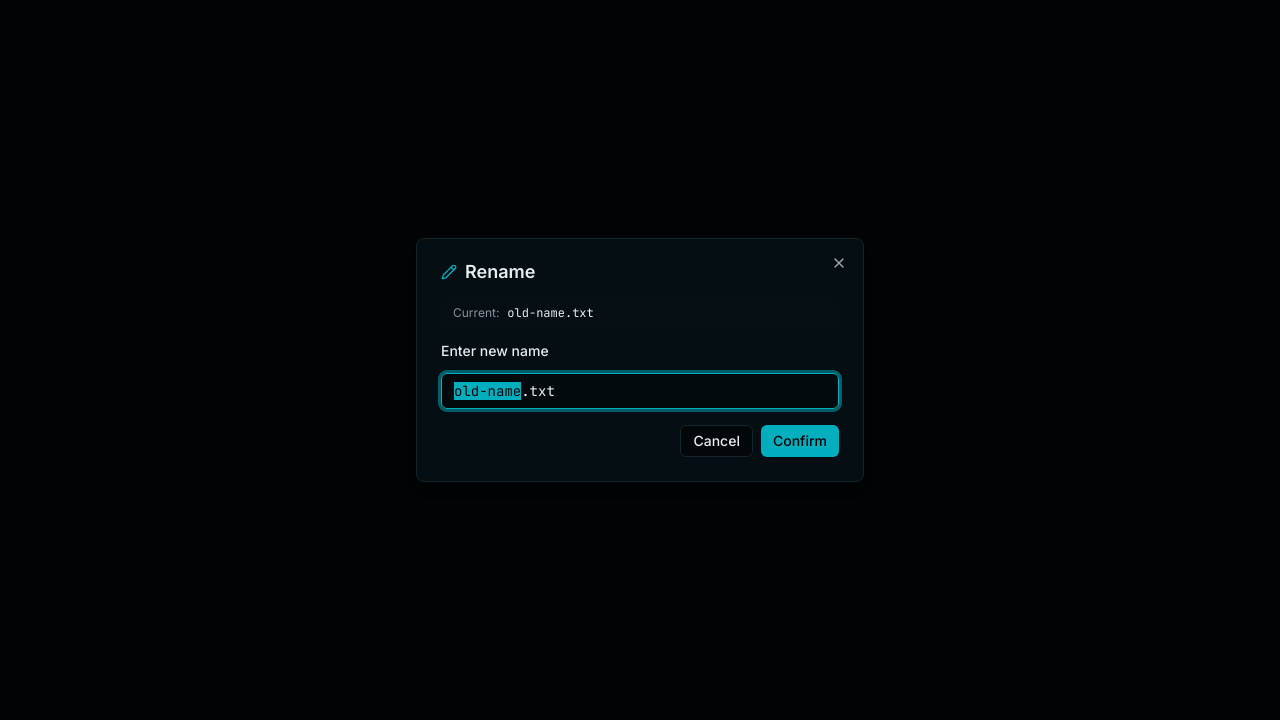
RenameDialog › should show error if new name is same as original
The image size is (1280, 720).
Click the button "Confirm". click: coordinates (800, 441)
box: [761,425,839,457]
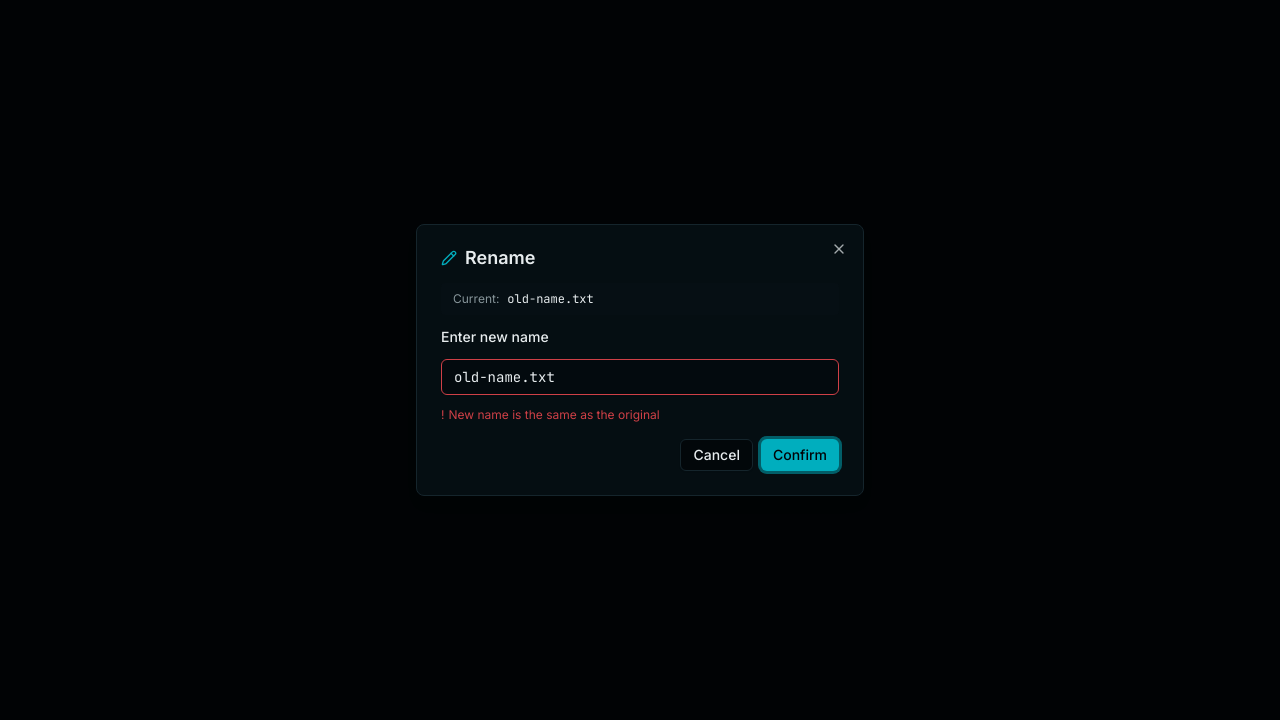
Now the text "New name is the same as the original" is shown, box [448,407,660,422]
